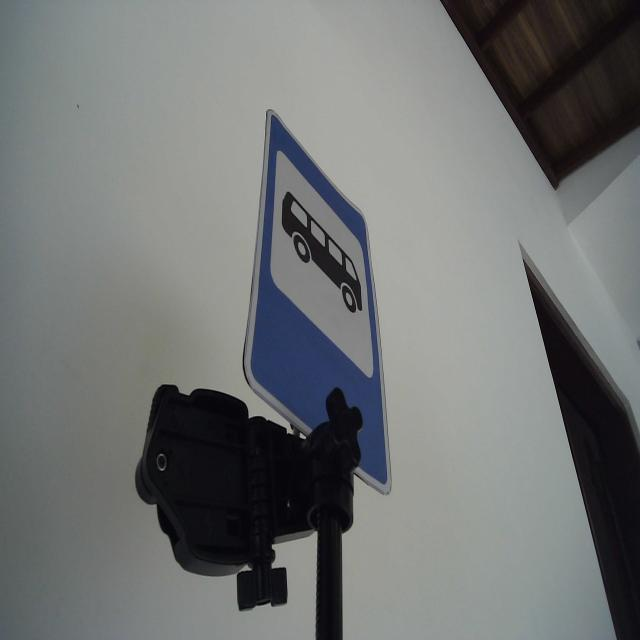bus_stop: (240, 104, 396, 500)
